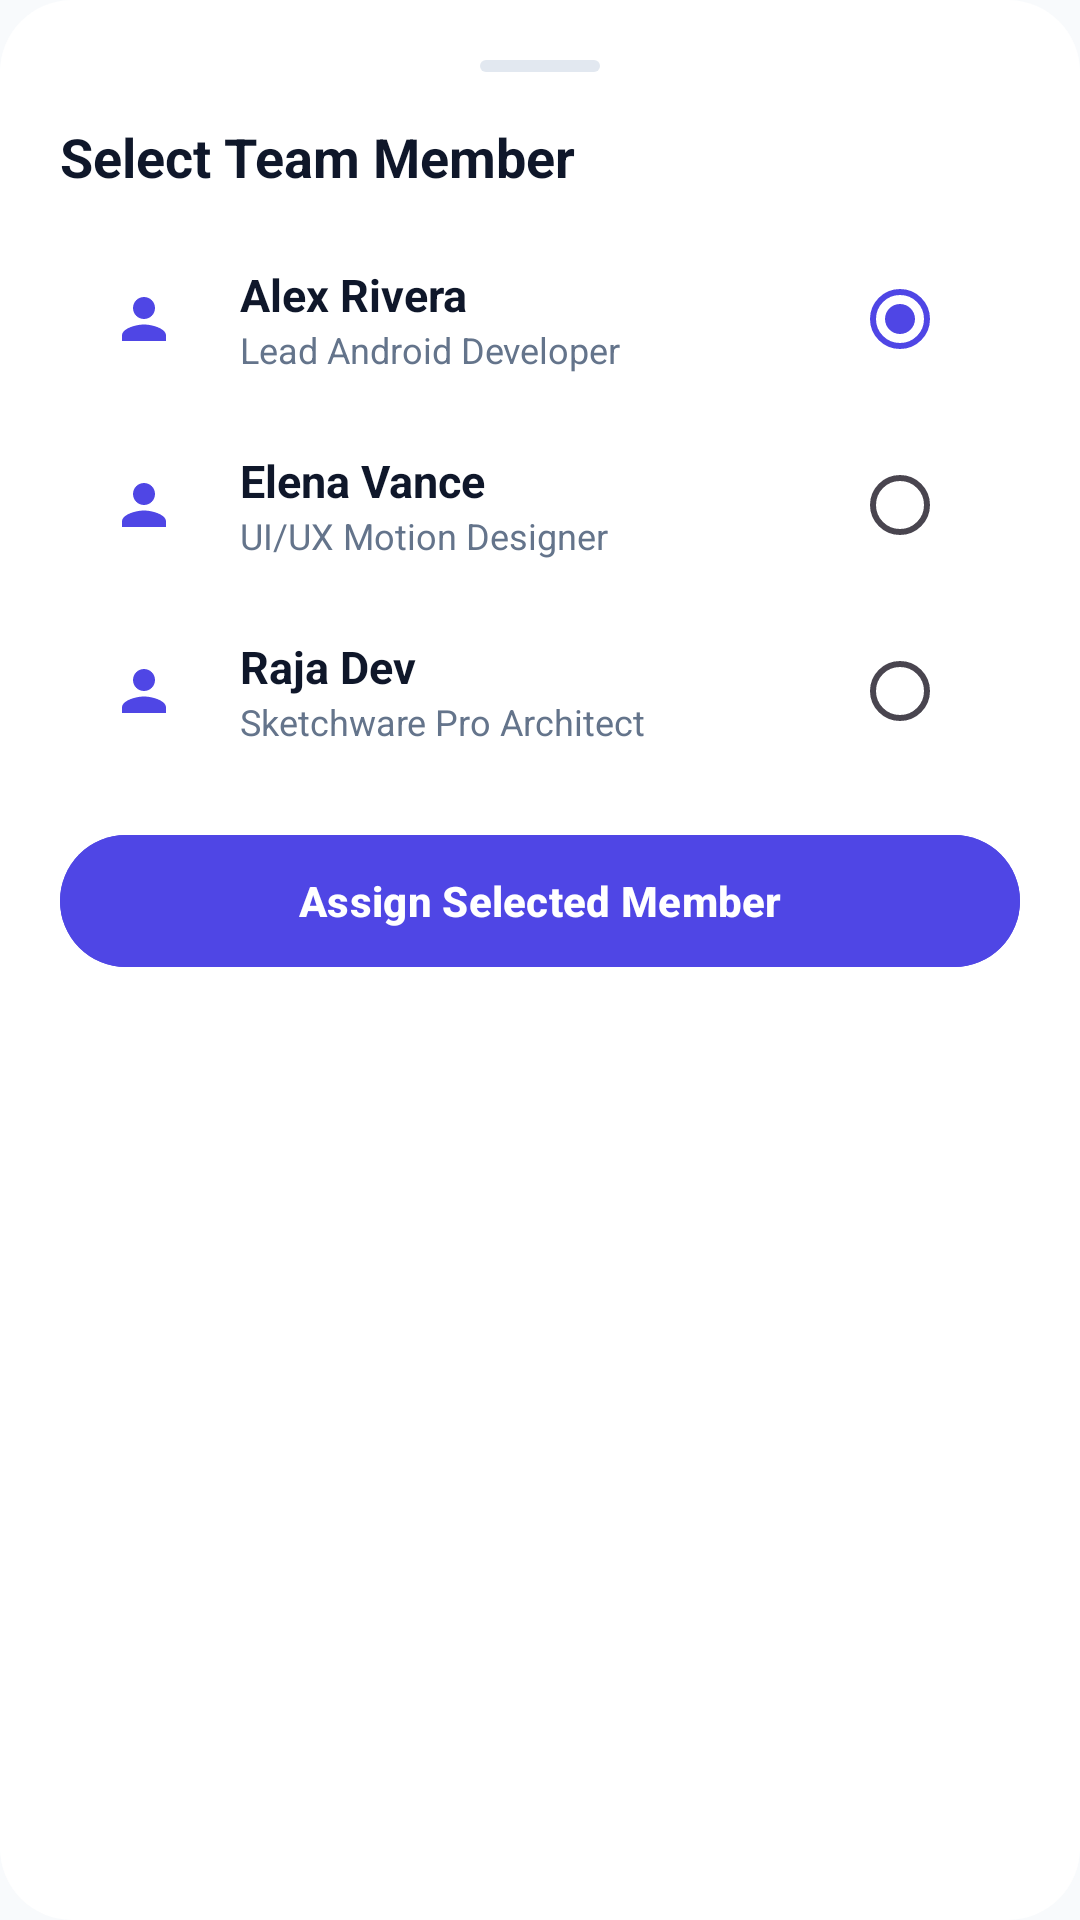

Icon bounding boxes for this 1080×1920 phone screenshot, format {"left": x1, "top": y1, "right": x2, "bottom": y2}:
User: {"left": 122, "top": 297, "right": 166, "bottom": 341}, {"left": 122, "top": 483, "right": 166, "bottom": 527}, {"left": 122, "top": 669, "right": 166, "bottom": 713}
